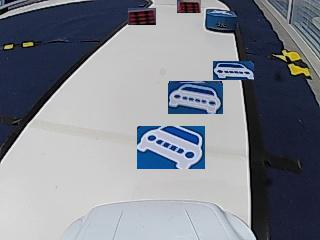prop: (206, 9, 237, 32)
